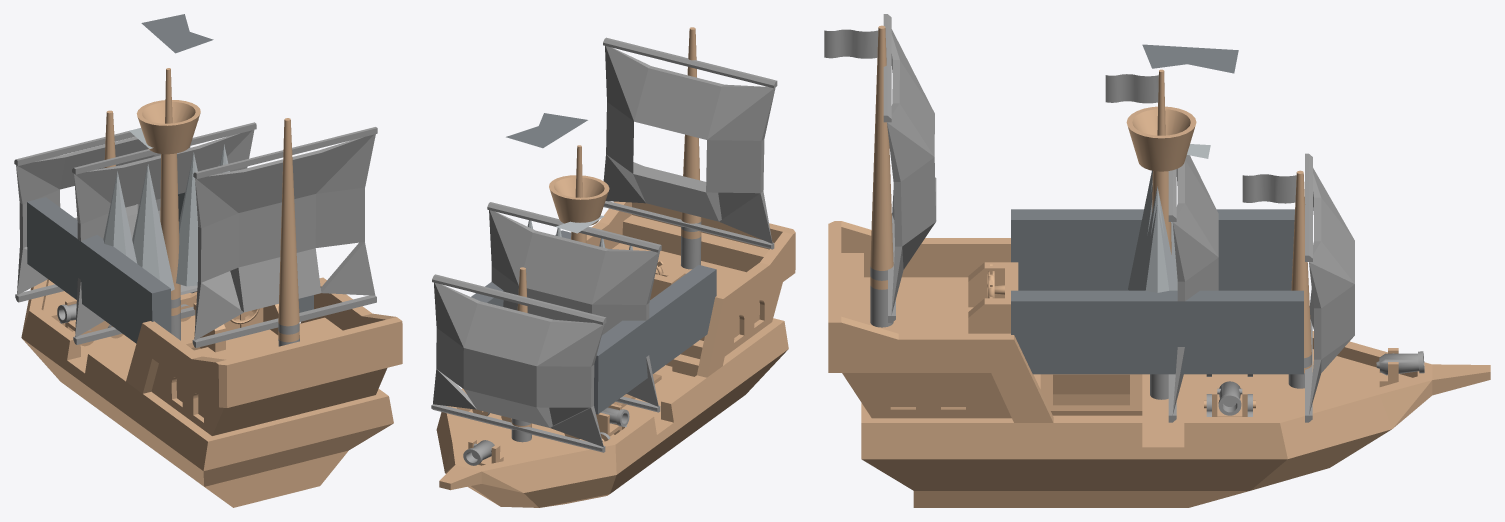
The model's file is ile_04_roc_des_mers_anime.glb.
The picture shows the model from 3 angles, left to right: view 1: azimuth 30°, elevation 25°; view 2: azimuth 150°, elevation 25°; view 3: azimuth 270°, elevation 25°; orthographic projection. The views are drawn at different scales.
Parts seen in each view (by area): view 1: navire_pirate_sombre_assimp, Blindage_Roc.001, Cristal_Roc_1, Cristal_Roc_2, Cristal_Roc_0, Grand_Pavillon; view 2: navire_pirate_sombre_assimp, Blindage_Roc.001, Grand_Pavillon; view 3: navire_pirate_sombre_assimp, Blindage_Roc, Blindage_Roc.001, Grand_Pavillon, Cristal_Roc_3, Cristal_Roc_2, Cristal_Roc_1.
Boxes of the visible parts, x1=… form: navire_pirate_sombre_assimp: x1=14, y1=68, x2=402, y2=507; Blindage_Roc.001: x1=27, y1=197, x2=171, y2=343; Cristal_Roc_1: x1=132, y1=164, x2=174, y2=290; Cristal_Roc_2: x1=176, y1=152, x2=198, y2=286; Cristal_Roc_0: x1=103, y1=171, x2=137, y2=263; Grand_Pavillon: x1=141, y1=14, x2=213, y2=53; navire_pirate_sombre_assimp: x1=431, y1=27, x2=795, y2=507; Blindage_Roc.001: x1=594, y1=265, x2=716, y2=414; Grand_Pavillon: x1=506, y1=113, x2=587, y2=148; navire_pirate_sombre_assimp: x1=824, y1=14, x2=1490, y2=507; Blindage_Roc: x1=1011, y1=290, x2=1303, y2=374; Blindage_Roc.001: x1=1011, y1=209, x2=1294, y2=290; Grand_Pavillon: x1=1142, y1=44, x2=1238, y2=73; Cristal_Roc_3: x1=1140, y1=203, x2=1174, y2=292; Cristal_Roc_2: x1=1136, y1=186, x2=1177, y2=290; Cristal_Roc_1: x1=1131, y1=185, x2=1177, y2=290.
Size of the model in its own units: 31.92 by 62.24 by 82.6.
